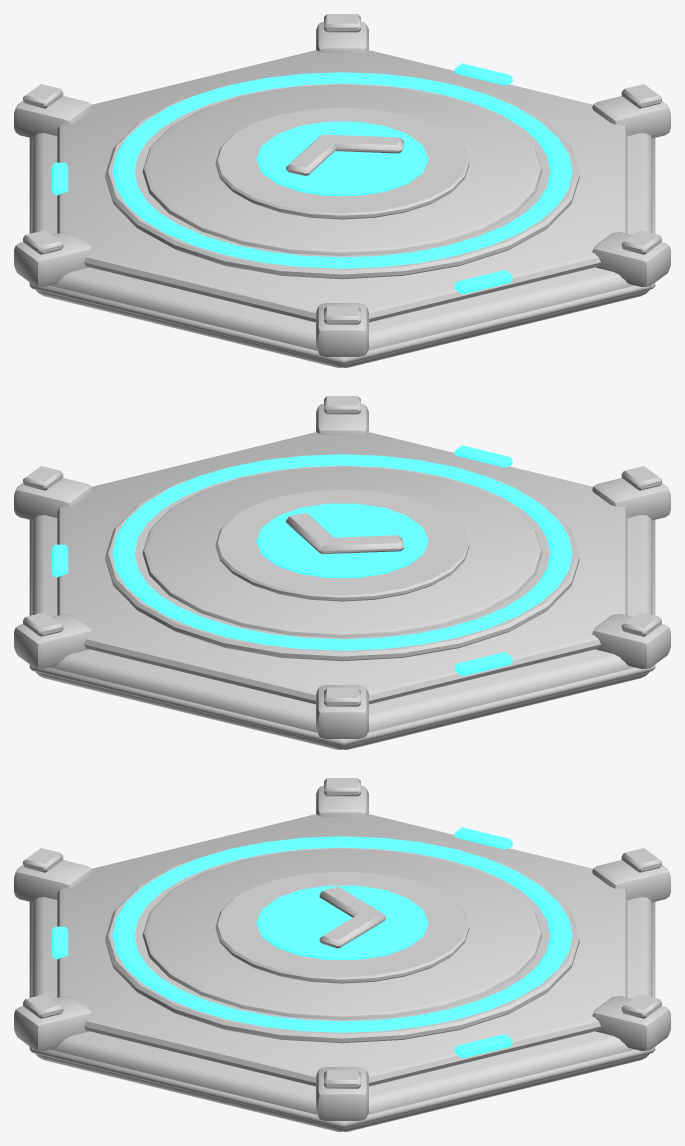
Rendered from SM_SpawnPad.fbx.
The picture shows the model from 3 angles, top to bottom: view 1: azimuth 30°, elevation 25°; view 2: azimuth 150°, elevation 25°; view 3: azimuth 270°, elevation 25°; orthographic projection.
Visible parts, largest first — view 1: SpawnPad; view 2: SpawnPad; view 3: SpawnPad.
Boxes of the visible parts, box(x1,y1,x2,y2) form: SpawnPad: box(14, 14, 670, 367); SpawnPad: box(14, 396, 670, 749); SpawnPad: box(14, 778, 670, 1131).
Size of the model in its own units: 3.6 by 0.395 by 3.21.
